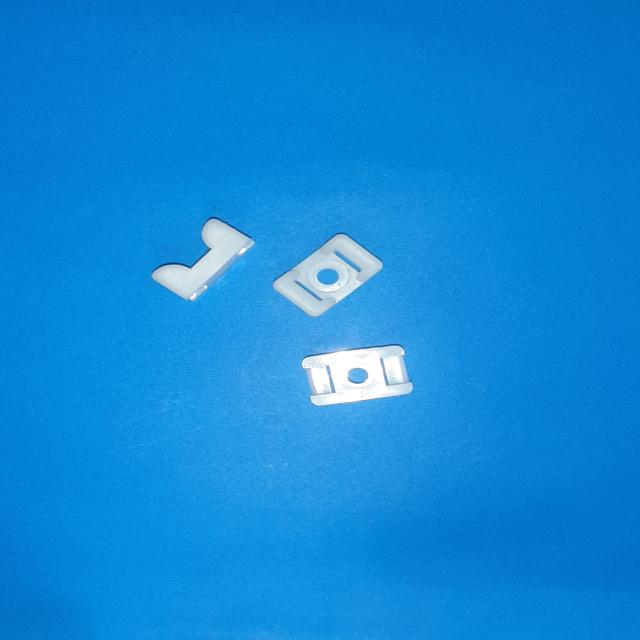false_1: (302, 345, 413, 406)
false_2: (152, 218, 255, 301)
true: (273, 234, 383, 316)
true_center: (317, 269, 339, 284)
